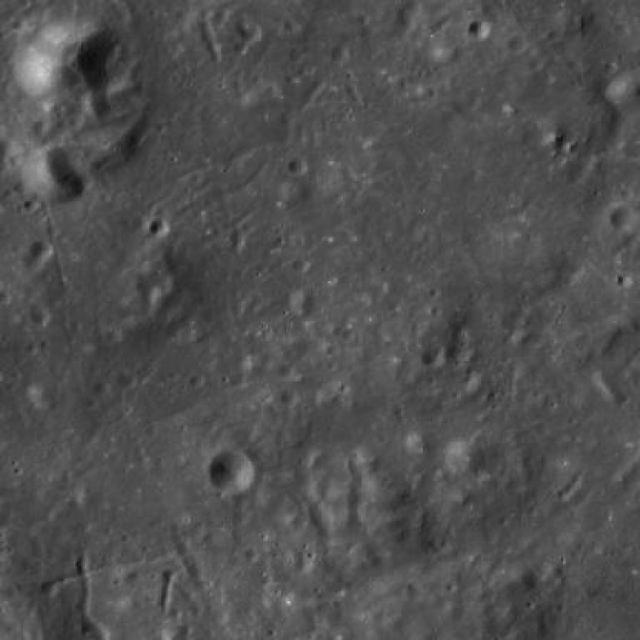crater: (208, 450, 255, 492), (610, 206, 638, 232), (445, 338, 473, 362), (30, 238, 53, 260), (421, 349, 444, 371), (23, 253, 45, 273), (136, 284, 158, 304), (238, 22, 260, 42), (392, 12, 414, 32), (466, 20, 488, 40), (29, 305, 49, 324), (149, 217, 169, 236), (556, 126, 576, 145), (287, 158, 307, 176), (117, 372, 137, 390), (294, 557, 314, 574), (289, 514, 308, 531), (330, 46, 350, 62), (0, 138, 17, 156), (280, 389, 298, 406), (508, 36, 527, 52), (229, 228, 246, 244), (402, 0, 420, 15), (292, 256, 308, 272)
